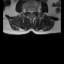CCS_normal: (30, 8, 32, 16)
LFS_normal: (34, 8, 36, 14)
LLS_stenosis: (32, 8, 34, 15)
RFS_normal: (27, 8, 29, 14)
RLS_normal: (29, 8, 30, 14)
